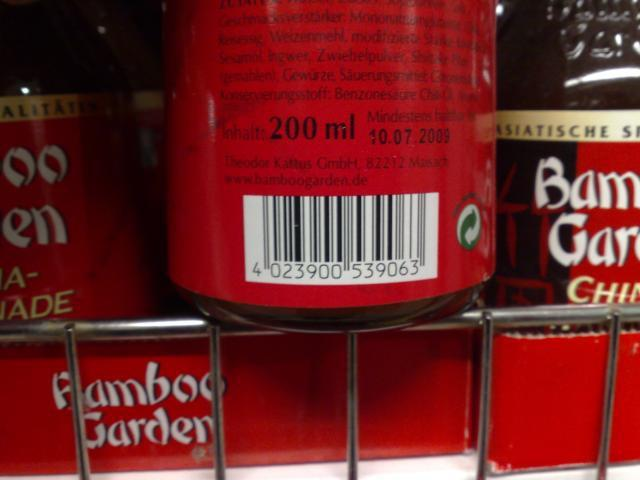Barcode: (241, 191, 439, 286)
